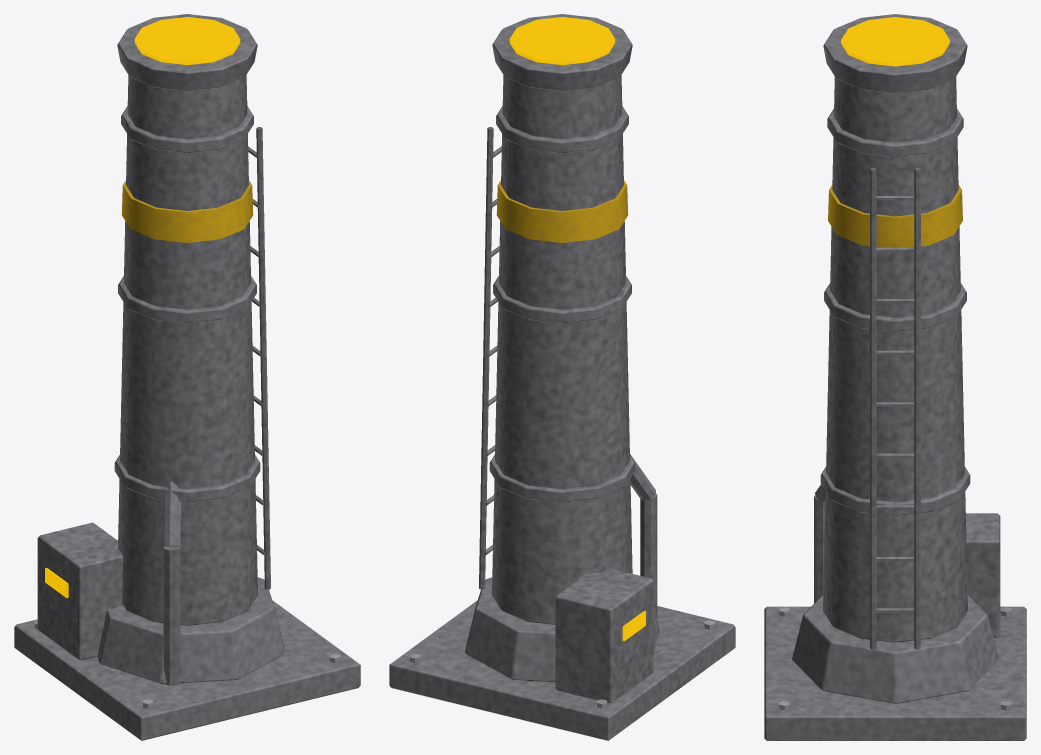
The model's file is nodexeus-stack.glb.
3 views of the same model, side by side, from view 1: azimuth 30°, elevation 25°; view 2: azimuth 150°, elevation 25°; view 3: azimuth 270°, elevation 25° (orthographic). The views are drawn at different scales.
Visible parts, largest first — view 1: stack; view 2: stack; view 3: stack.
Boxes of the visible parts, x1=… form: stack: x1=14, y1=14, x2=360, y2=740; stack: x1=389, y1=14, x2=735, y2=740; stack: x1=764, y1=14, x2=1026, y2=740.
Bounding box in the file's own units: 1.3 × 3.54 × 1.3.
1 material, 1 textured.
